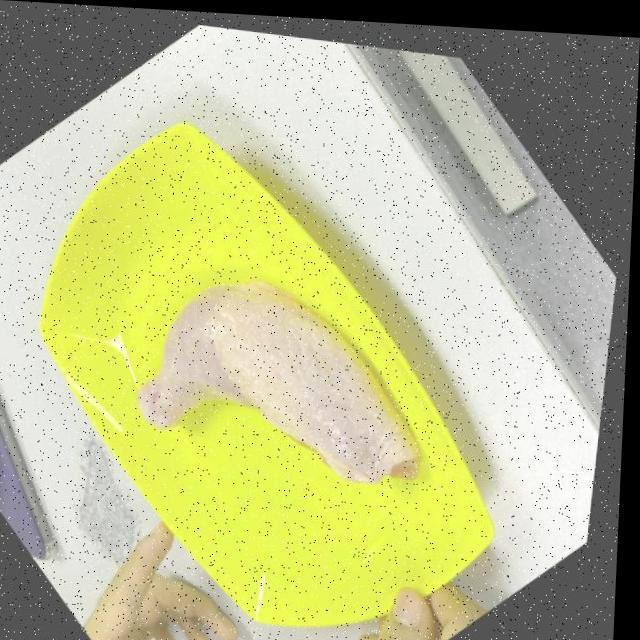quater: (134, 272, 430, 502)
